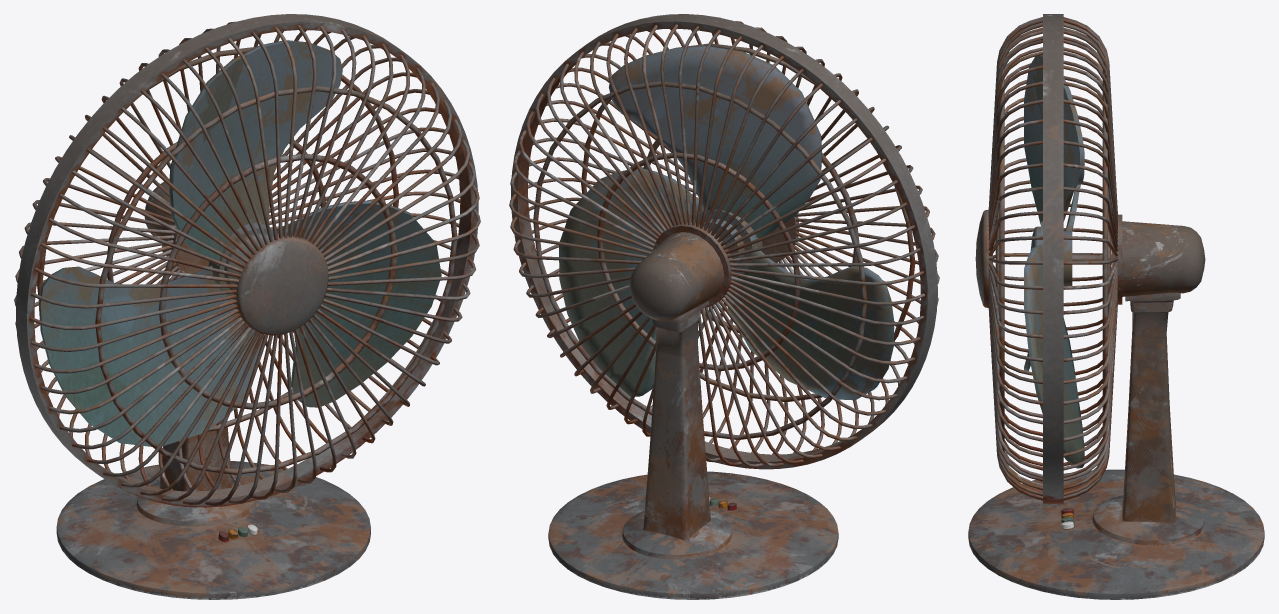
Rendered from rust-desk-fan.glb.
3 views of the same model, side by side, from view 1: azimuth 30°, elevation 25°; view 2: azimuth 150°, elevation 25°; view 3: azimuth 270°, elevation 25° (orthographic). The views are drawn at different scales.
Visible parts, largest first — view 1: SM_Fan, Fanpart, SM_Fan.002, SM_Fan.001; view 2: SM_Fan, Fanpart, SM_Fan.002, SM_Fan.001; view 3: SM_Fan, SM_Fan.002, SM_Fan.001, Fanpart.
Part boxes in pixels (x1,y1,x2,y2): SM_Fan: (14, 14, 480, 542); Fanpart: (38, 40, 441, 446); SM_Fan.002: (56, 461, 370, 599); SM_Fan.001: (159, 246, 232, 491); SM_Fan: (509, 14, 939, 510); Fanpart: (559, 46, 894, 400); SM_Fan.002: (548, 471, 838, 599); SM_Fan.001: (643, 301, 710, 540); SM_Fan: (975, 14, 1205, 529); SM_Fan.002: (968, 469, 1264, 599); SM_Fan.001: (1123, 292, 1180, 523); Fanpart: (1024, 55, 1084, 468).
Size of the model in its own units: 0.7058 by 0.7966 by 0.4273.
Materials: 8 (8 with a texture image).
